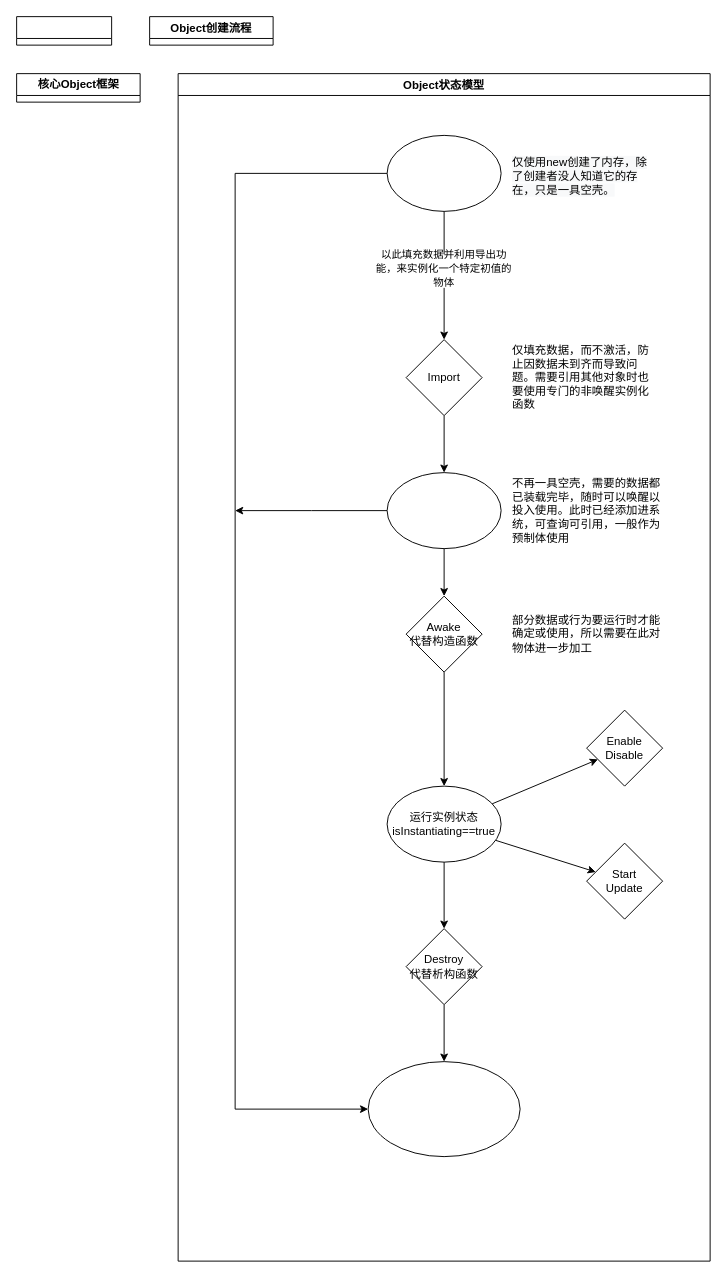
Image size: 727x1278. Some labels were removed from this diagram. Each missing label, with the centre of its shape:
"Object功能" goes at pixel 64 30.
"原始状态 instanceID==0" goes at pixel 443 172.
"睡眠实例状态 instanceID！=0" goes at pixel 443 510.
"销毁状态 isDestroying==true || isInstantiating==false" goes at pixel 443 1109.
